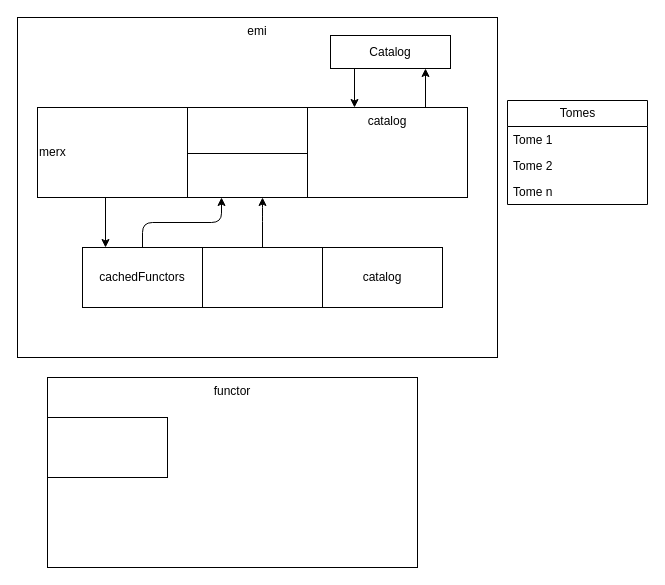
This 665x585 diagram has some shape labels left out. The shapes that lost their labels are listed below. From the top down, each one's centre as x and y in pixels, then its label:
the point at 247,130: undo
the point at 247,175: builder
the point at 262,277: GetRegistered()
the point at 107,447: Fetch()
